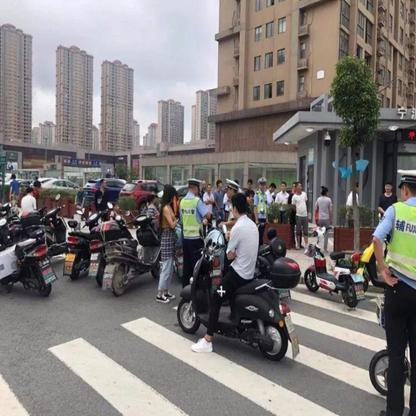target: (178, 193, 302, 362)
